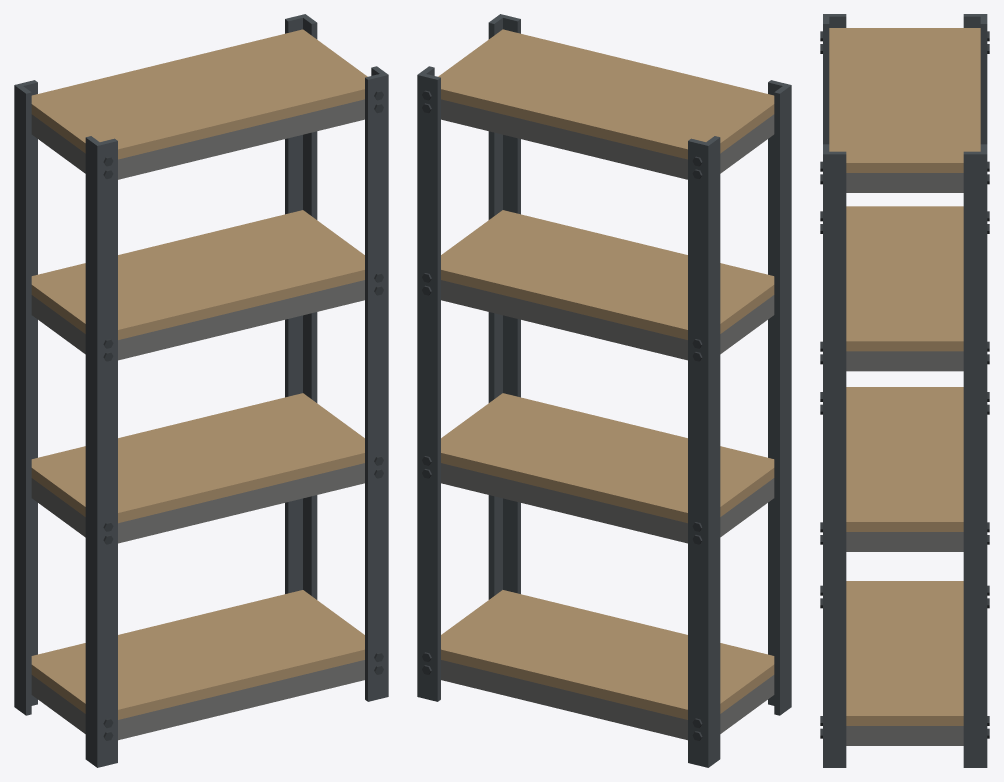
Rendered from SM_Prop_Shelves_Tall_02.fbx.
3 renders of one model, left to right at view 1: azimuth 30°, elevation 25°; view 2: azimuth 150°, elevation 25°; view 3: azimuth 270°, elevation 25°, orthographic.
Visible parts, largest first — view 1: SM_Prop_Shelves_Tall_02; view 2: SM_Prop_Shelves_Tall_02; view 3: SM_Prop_Shelves_Tall_02.
Boxes of the visible parts, x1,y1,x2,y2 form: SM_Prop_Shelves_Tall_02: (14,14,388,767); SM_Prop_Shelves_Tall_02: (417,14,791,767); SM_Prop_Shelves_Tall_02: (820,14,989,767).
Bounding box in the file's own units: 125 × 254 × 63.47.
